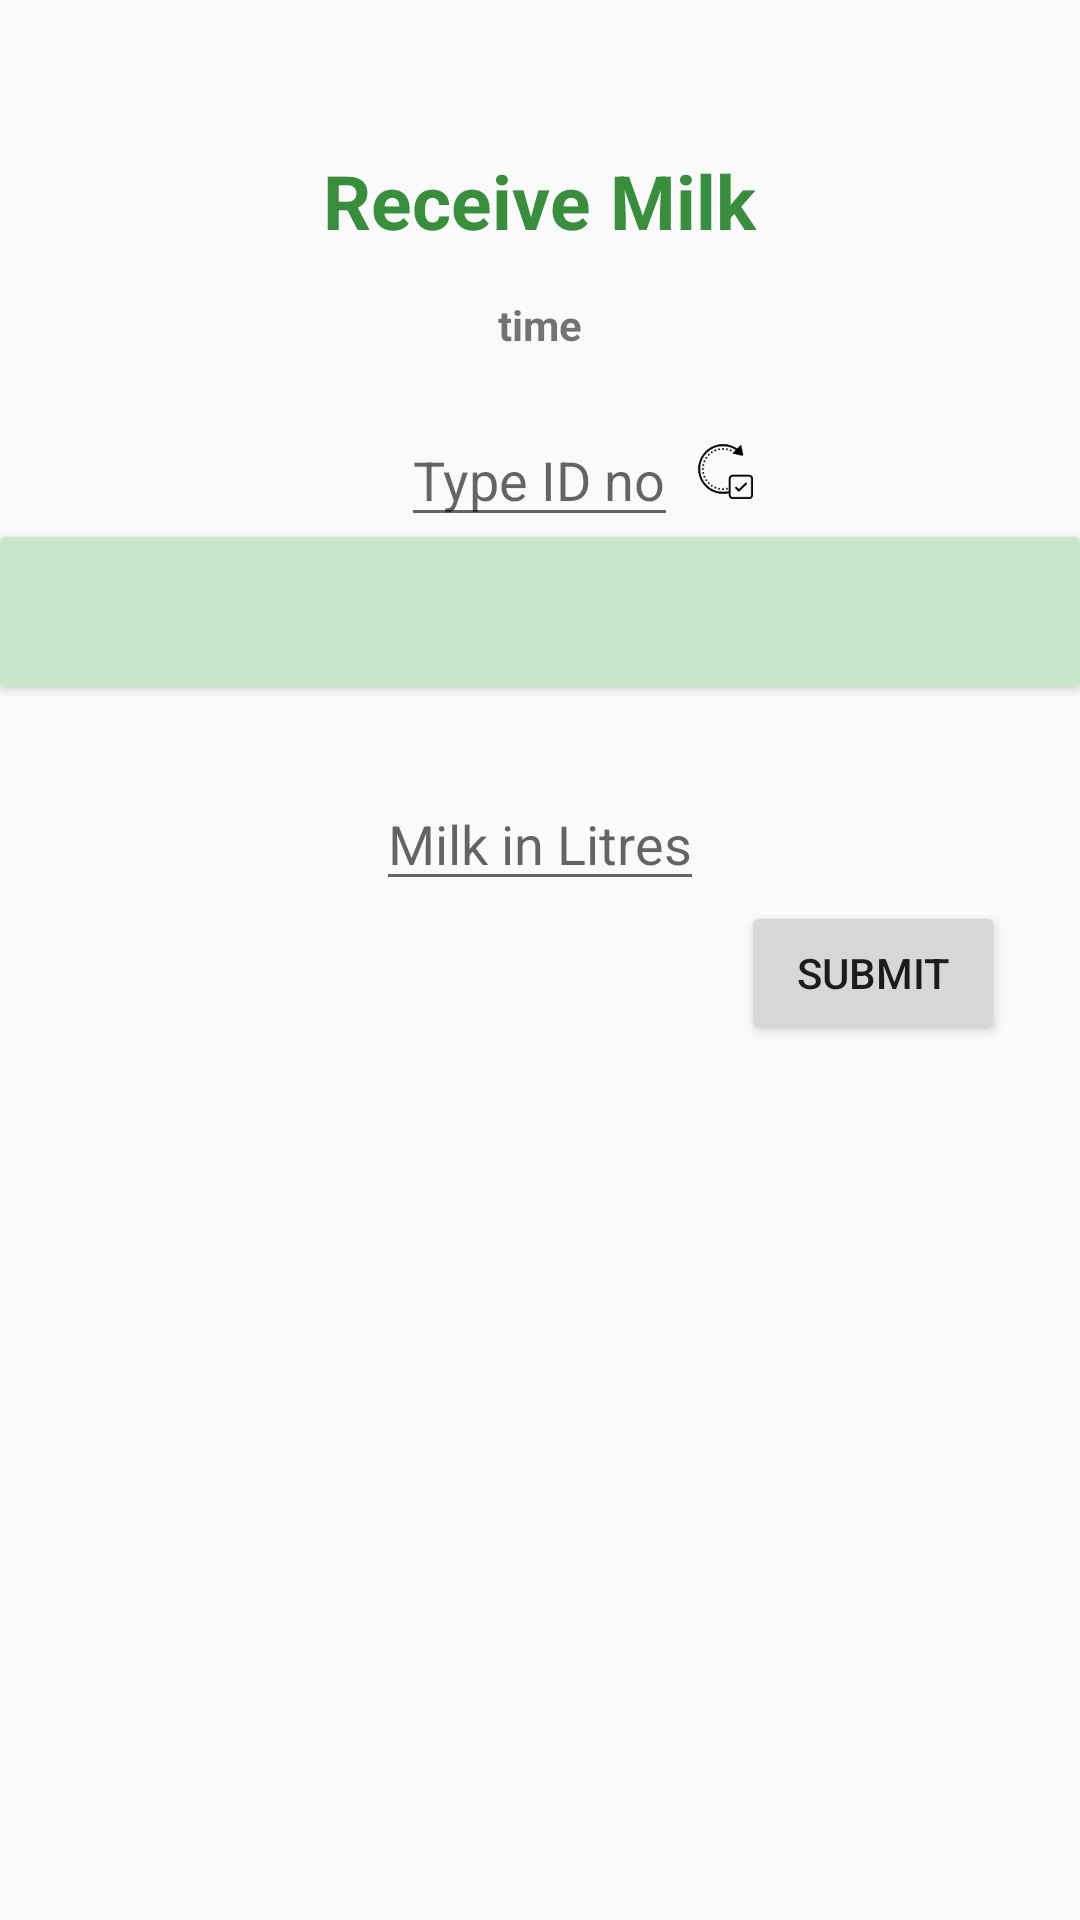

Named icons in this screenshot (1080px×1920px) and their centers, [x,y]:
update: [725,471]
